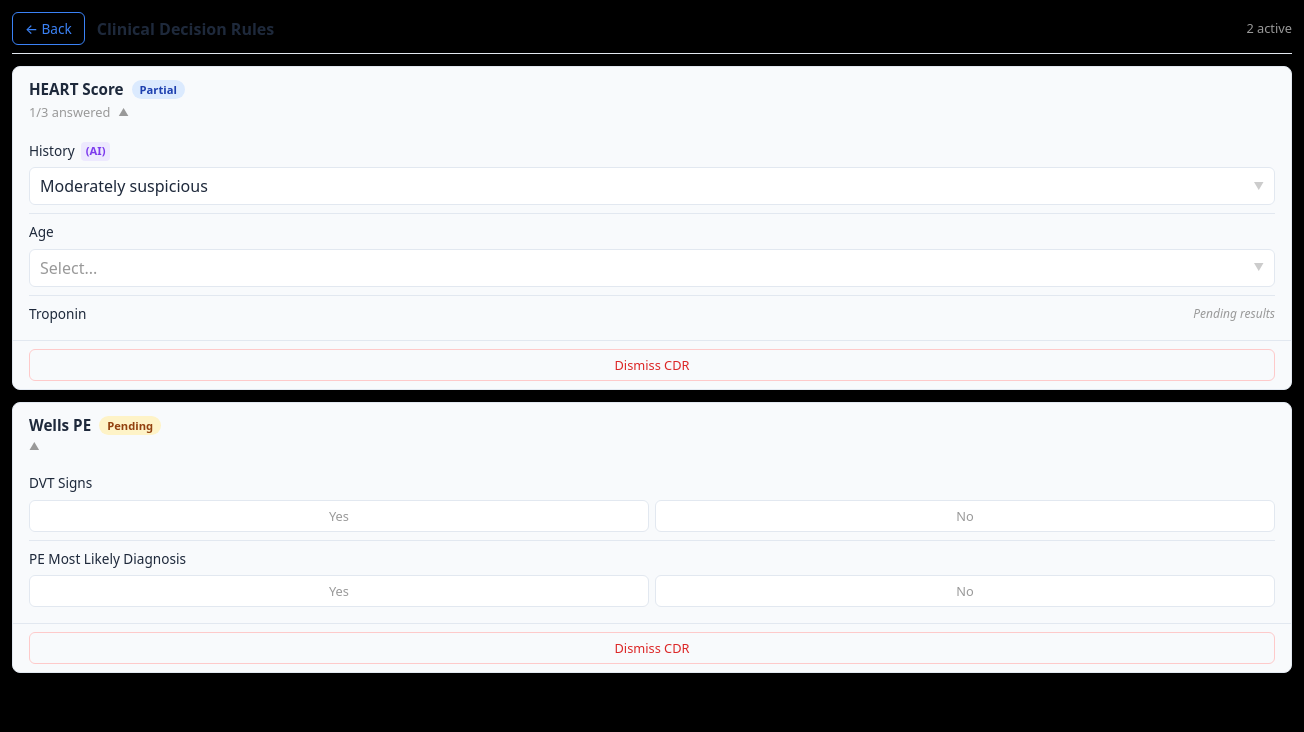
CdrDetailView › dismiss button shows confirmation warning
Note: Click the first "Dismiss CDR" button
Click the button "Dismiss CDR" below "Troponin": click(652, 365) [29,349,1275,381]
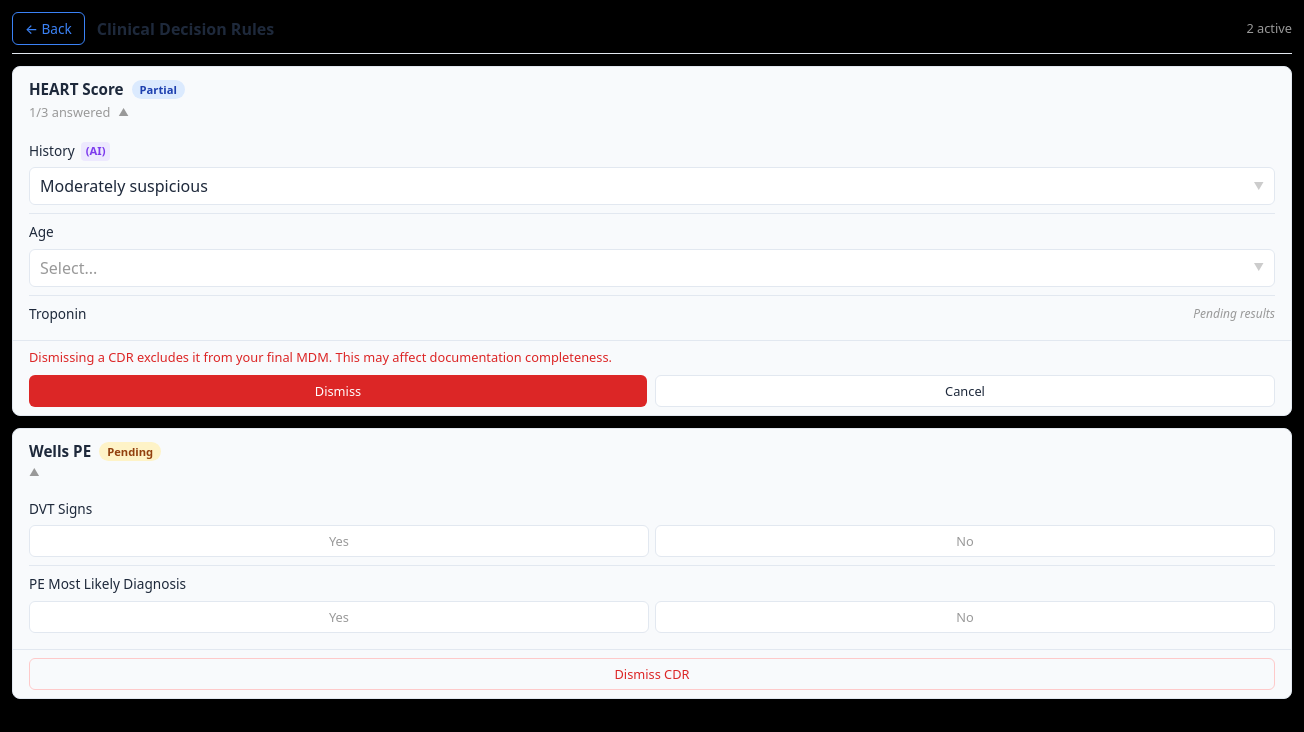
Expected: the text "Dismissing a CDR excludes it from your final MDM" is shown, [29,348,612,366]
